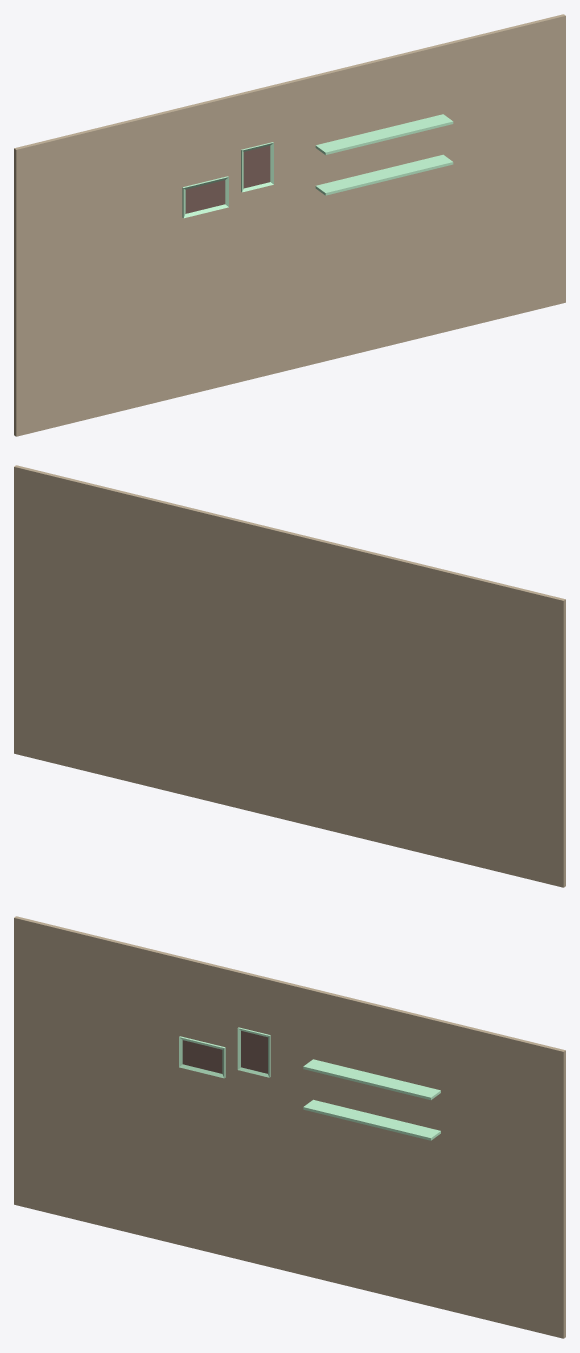
The model's file is wall-set.glb.
3 renders of one model, top to bottom at view 1: azimuth 30°, elevation 25°; view 2: azimuth 150°, elevation 25°; view 3: azimuth 330°, elevation 25°, orthographic.
Visible parts, largest first — view 1: wall, Cube.008, Cube.007, Cube.010, Cube.009; view 2: wall; view 3: wall, Cube.007, Cube.008, Cube.010, Cube.009.
Part boxes in pixels (bbox=[...]): wall: bbox=[14, 14, 565, 436]; Cube.008: bbox=[315, 154, 453, 195]; Cube.007: bbox=[315, 114, 453, 154]; Cube.010: bbox=[182, 176, 228, 218]; Cube.009: bbox=[241, 142, 273, 192]; wall: bbox=[14, 465, 565, 887]; wall: bbox=[14, 916, 565, 1338]; Cube.007: bbox=[303, 1059, 440, 1099]; Cube.008: bbox=[303, 1099, 440, 1140]; Cube.010: bbox=[179, 1036, 225, 1078]; Cube.009: bbox=[237, 1027, 270, 1077].
Size of the model in its own units: 4.59 by 2.29 by 0.1776.
